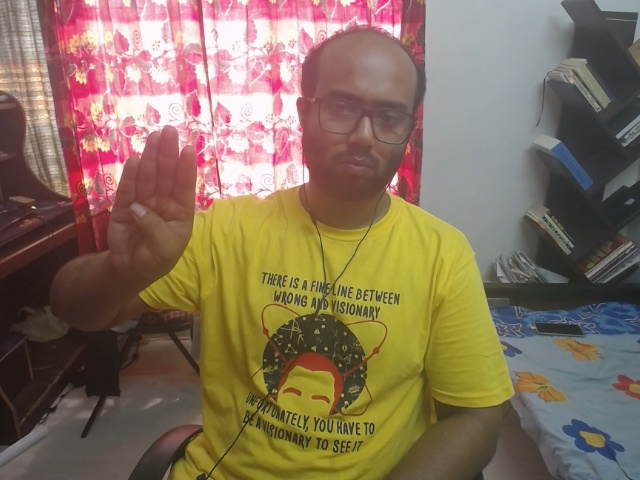counting: (93, 118, 206, 290)
